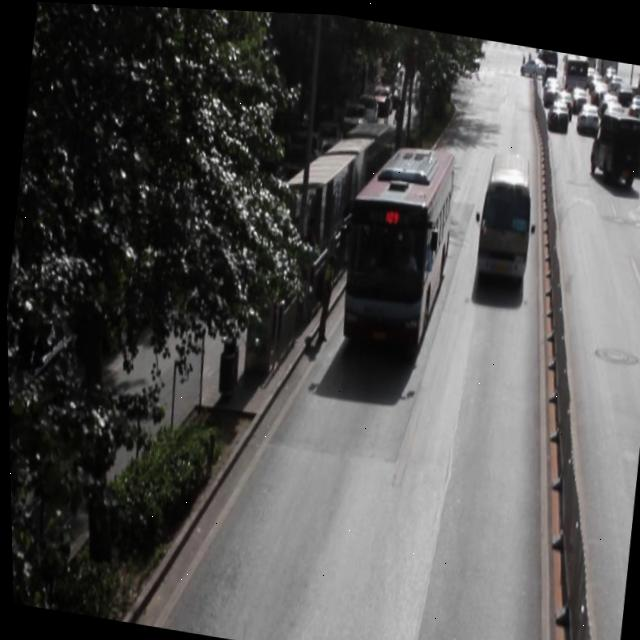truck: (471, 143, 538, 278), (583, 99, 640, 174)
van: (334, 130, 459, 349)
